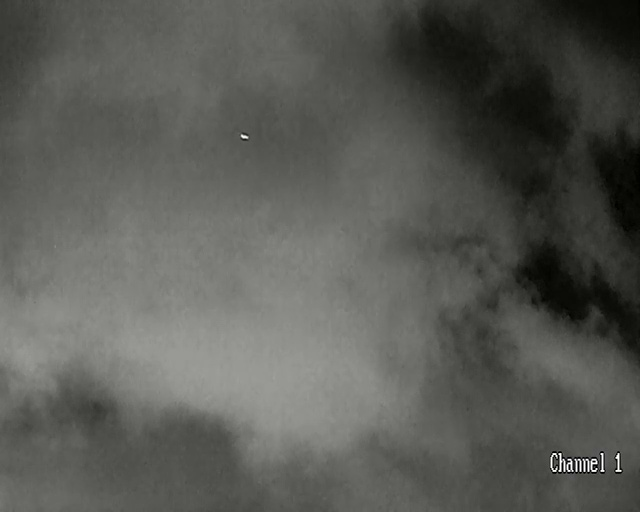uav: (240, 133, 247, 138)
